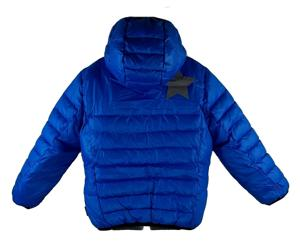C_jacket: (3, 12, 299, 235)
